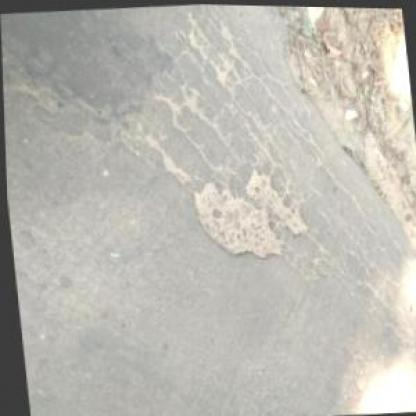pothole: (187, 160, 311, 268)
